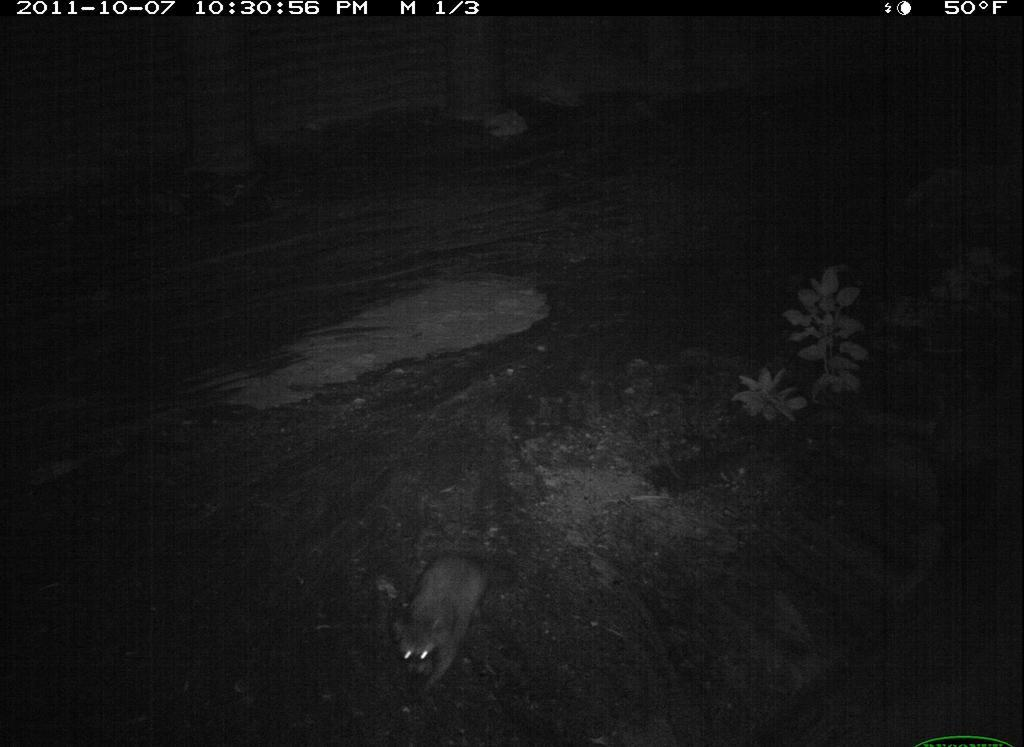raccoon: (385, 533, 524, 704)
